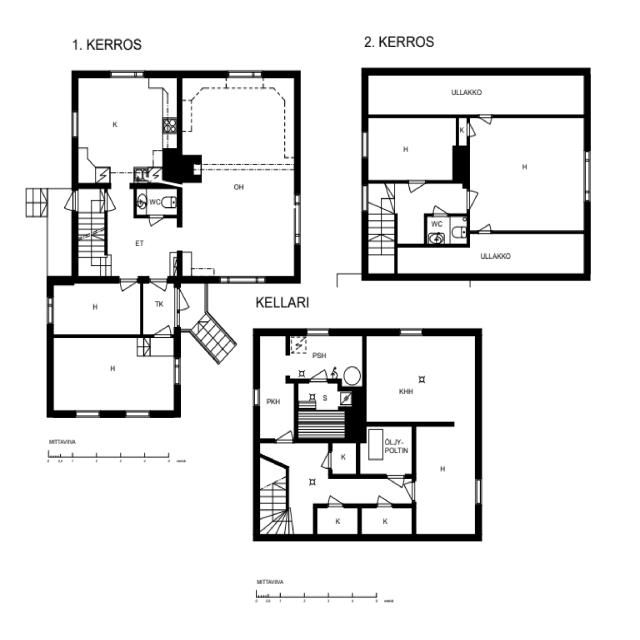door: (456, 118, 475, 142), (406, 177, 428, 195), (62, 189, 79, 212), (384, 471, 406, 488), (463, 188, 480, 210), (101, 191, 118, 213), (307, 367, 330, 383), (174, 287, 188, 313), (360, 183, 371, 214), (475, 112, 495, 129), (118, 275, 138, 292), (146, 212, 166, 228), (149, 275, 169, 291), (274, 428, 294, 444), (430, 202, 450, 218), (374, 493, 395, 508), (325, 493, 346, 508), (474, 220, 496, 234), (319, 450, 335, 469), (153, 323, 172, 338), (403, 480, 417, 500), (465, 119, 477, 138)
window: (580, 147, 595, 206), (215, 273, 269, 286), (291, 192, 303, 245), (107, 67, 149, 81), (224, 68, 264, 81), (397, 325, 426, 337), (473, 476, 484, 507), (70, 108, 80, 141), (360, 129, 370, 161), (360, 183, 370, 214), (72, 408, 102, 418), (304, 326, 332, 336), (46, 295, 55, 326), (173, 356, 182, 387), (123, 409, 152, 418), (252, 385, 261, 409)
zone: (468, 116, 588, 232), (182, 174, 298, 278), (75, 75, 169, 185), (365, 333, 477, 423), (50, 335, 177, 413), (415, 424, 477, 536), (106, 194, 178, 278), (364, 116, 457, 181), (50, 280, 141, 336), (286, 332, 364, 383), (257, 338, 293, 440), (294, 381, 350, 440), (360, 424, 414, 474), (142, 280, 178, 334), (360, 506, 414, 535), (134, 186, 179, 217), (315, 506, 359, 536), (426, 215, 467, 245), (330, 441, 358, 476), (456, 117, 470, 146)
